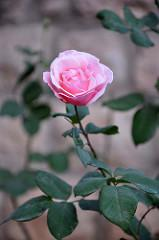Rose: (42, 44, 116, 116)
